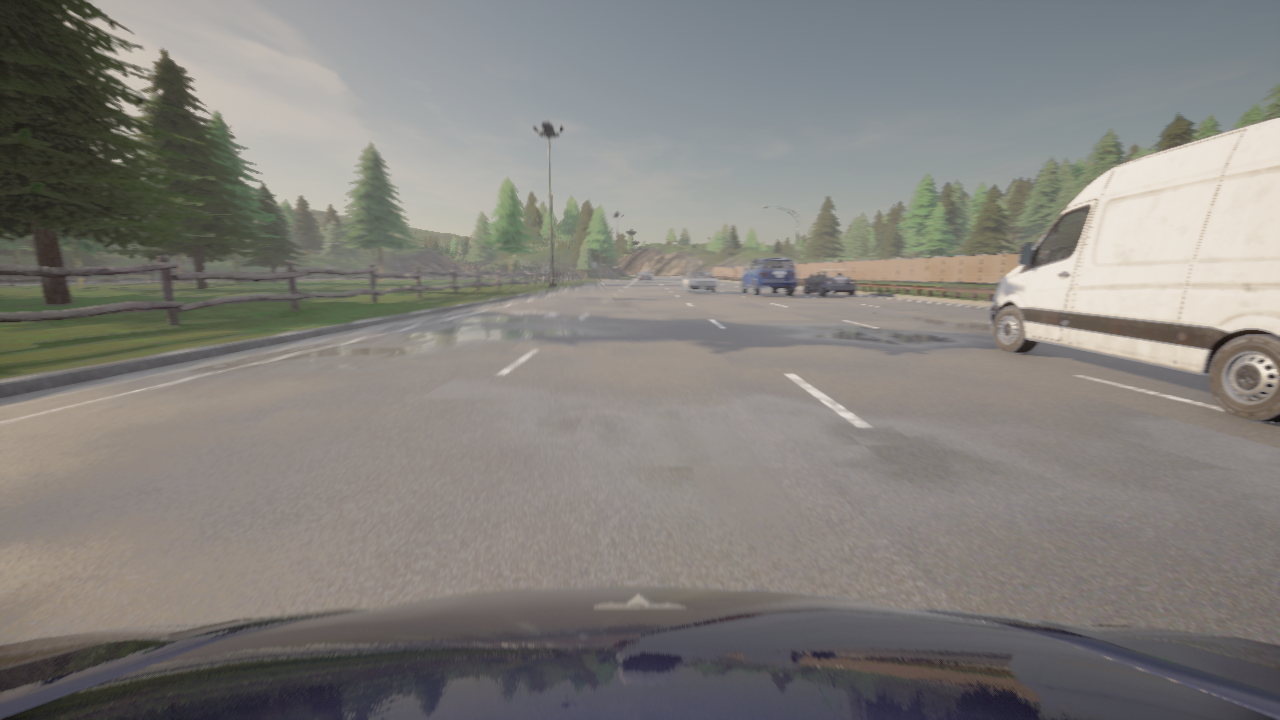cyclist: (0, 588, 1279, 719), (990, 117, 1279, 422), (741, 259, 796, 296), (804, 269, 856, 296), (683, 272, 717, 292), (638, 273, 652, 282)
